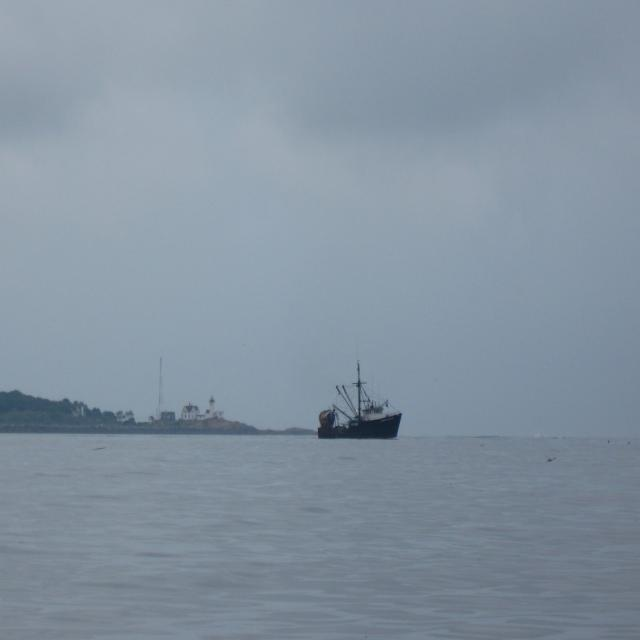fishing boat: (311, 367, 403, 438)
